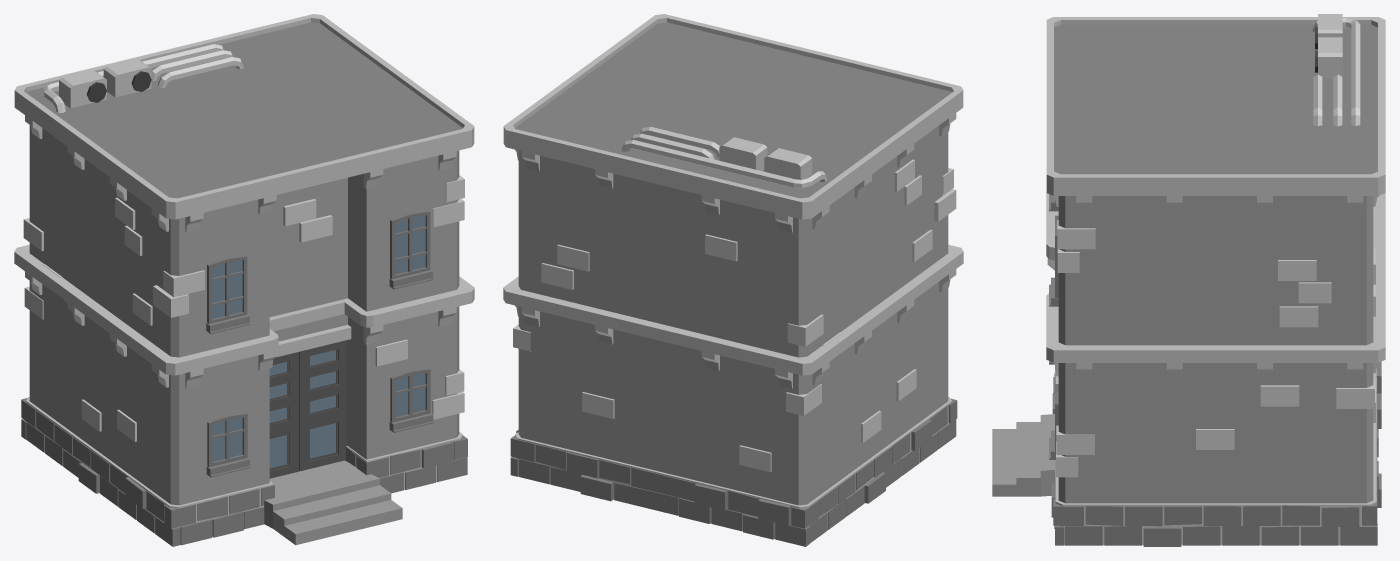
The model's file is qtb_2story_center.fbx.
3 views of the same model, side by side, from view 1: azimuth 30°, elevation 25°; view 2: azimuth 150°, elevation 25°; view 3: azimuth 270°, elevation 25° (orthographic). The views are drawn at different scales.
Visible parts, largest first — view 1: qtb_2story_center_LOD0; view 2: qtb_2story_center_LOD0; view 3: qtb_2story_center_LOD0.
Part boxes in pixels (x1,y1,x2,y2): qtb_2story_center_LOD0: (14, 14, 474, 546); qtb_2story_center_LOD0: (503, 14, 963, 546); qtb_2story_center_LOD0: (992, 14, 1385, 546).
Size of what is drawn, in the model's own units: 6.54 by 7.39 by 6.75.
Materials: 1 (1 with a texture image).
